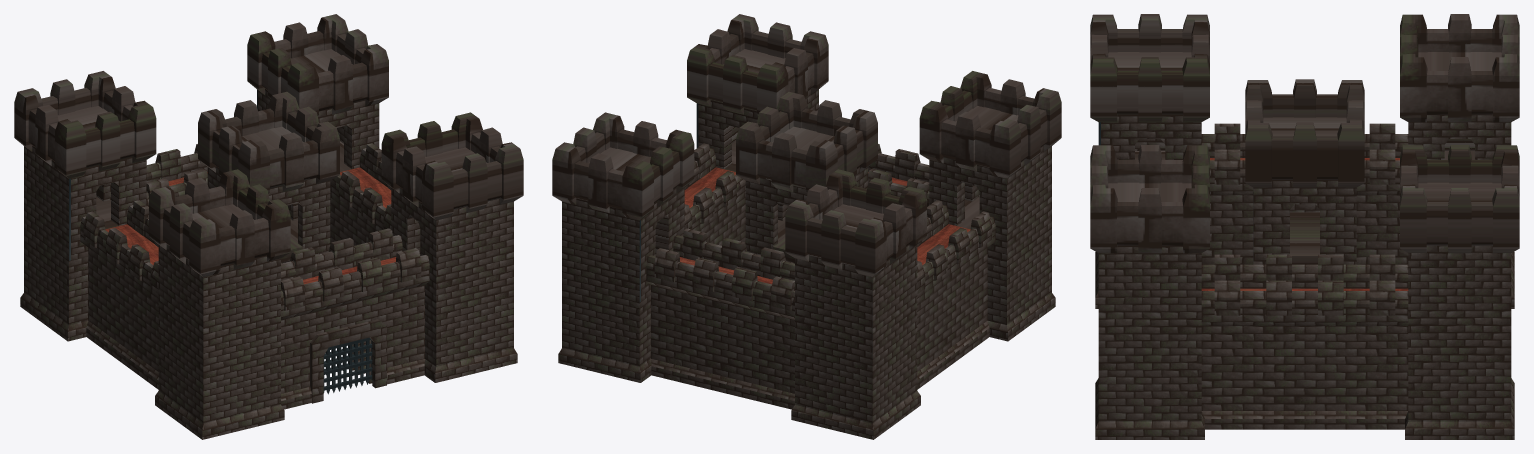
Rendered from CastleTest.fbx.
The picture shows the model from 3 angles, left to right: view 1: azimuth 30°, elevation 25°; view 2: azimuth 150°, elevation 25°; view 3: azimuth 270°, elevation 25°; orthographic projection. The views are drawn at different scales.
Visible parts, largest first — view 1: Wall.003; view 2: Wall.003; view 3: Wall.003.
Part boxes in pixels (left/top/right/bottom): Wall.003: left=14, top=14, right=523, bottom=439; Wall.003: left=552, top=14, right=1061, bottom=439; Wall.003: left=1090, top=14, right=1519, bottom=439.
Size of the model in its own units: 1663 by 1061 by 1663.
